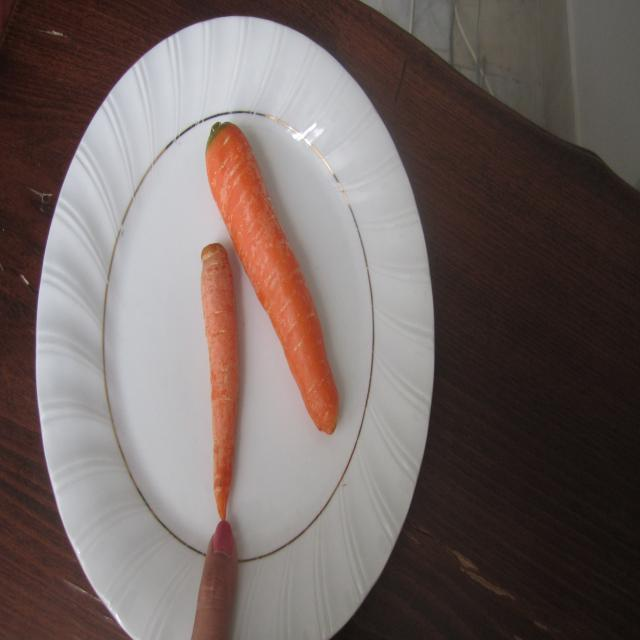Carrot: (200, 109, 348, 446), (194, 230, 246, 522)
Finger: (184, 519, 250, 635)
